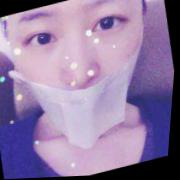WRONG: (1, 1, 169, 152)
